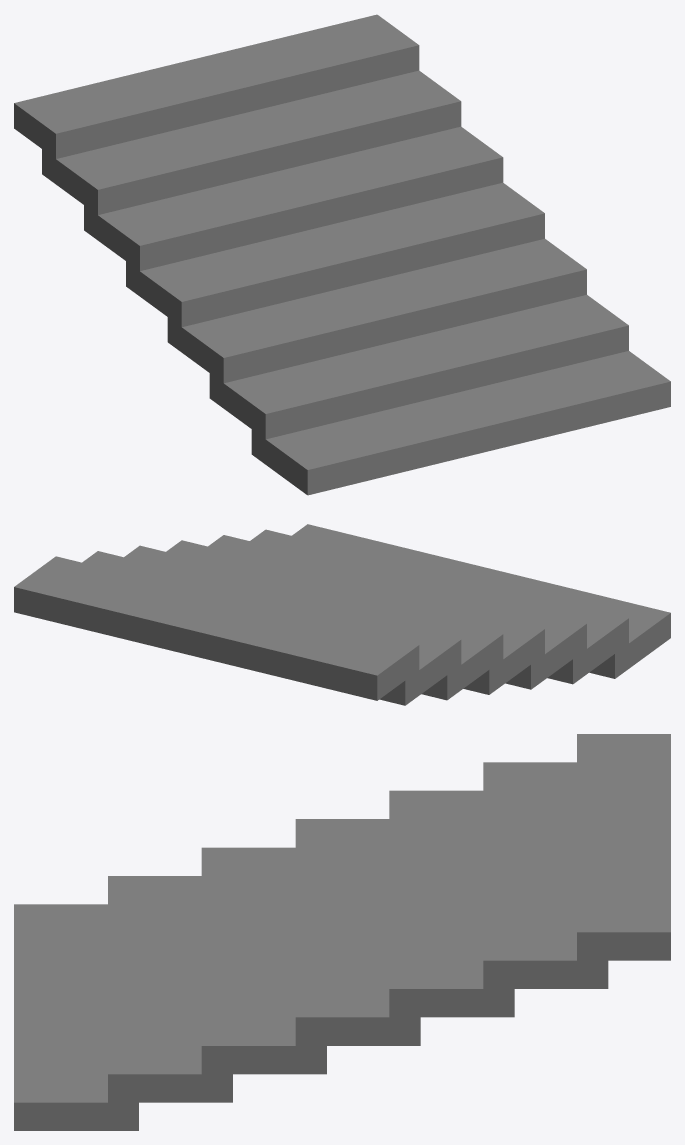
Rendered from Steps.obj.
The picture shows the model from 3 angles, top to bottom: view 1: azimuth 30°, elevation 25°; view 2: azimuth 150°, elevation 25°; view 3: azimuth 270°, elevation 25°; orthographic projection. The views are drawn at different scales.
Parts seen in each view (by area): view 1: Steps; view 2: Steps; view 3: Steps.
Boxes of the visible parts, box(x1,y1,x2,y2) form: Steps: box(14, 14, 670, 495); Steps: box(14, 524, 670, 705); Steps: box(14, 734, 670, 1130).
Size of the model in its own units: 15 by 7 by 21.
Materials: 1 (1 with a texture image).
